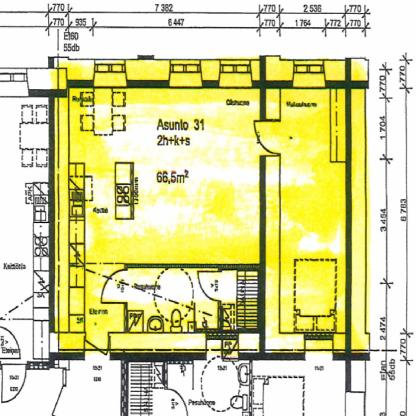door: (252, 118, 282, 158), (2, 362, 28, 402), (102, 265, 128, 302), (157, 391, 190, 416), (197, 270, 222, 301), (0, 326, 22, 360)
window: (95, 58, 124, 73), (294, 66, 326, 78), (171, 63, 200, 75), (221, 65, 249, 77)
zone: (70, 88, 259, 263), (270, 88, 345, 354), (56, 262, 259, 352), (0, 93, 49, 359), (129, 356, 250, 416), (254, 359, 348, 416)
